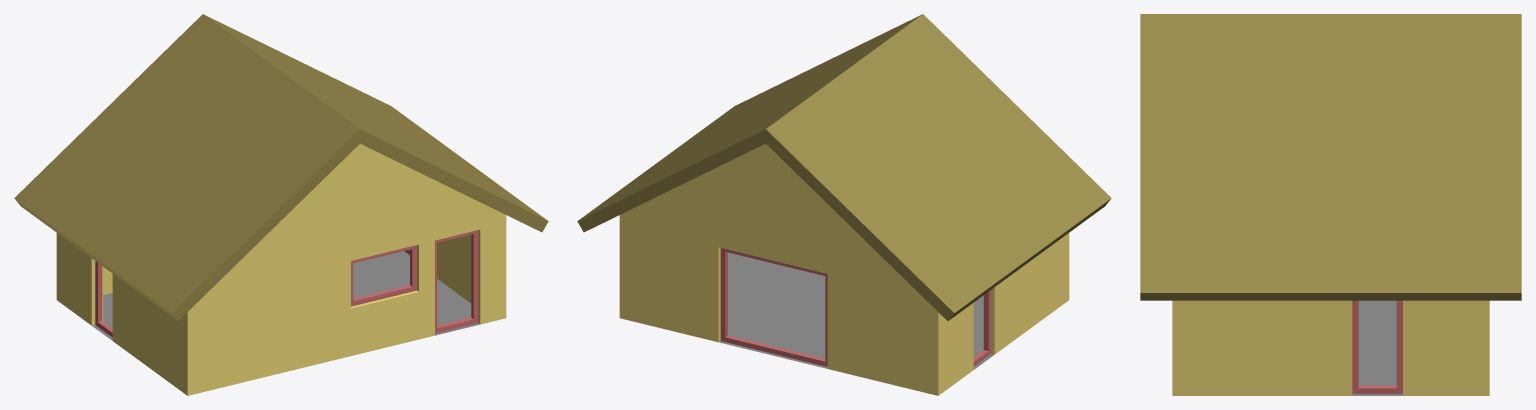
File: result.glb
3 renders of one model, left to right at view 1: azimuth 30°, elevation 25°; view 2: azimuth 150°, elevation 25°; view 3: azimuth 270°, elevation 25°, orthographic. The views are drawn at different scales.
Parts seen in each view (by area): view 1: d7be5c09-c284-466b-8f98-a94552281ddd__undefined (×2), 1d9ca5a3-7dc6-4dca-8aea-2c1976a27da8__undefined, b18ef0d9-2d0b-400a-9ca5-b12500fb0822__Plane_6, 64e5c6a6-7477-4eca-b0c9-16b6962f9c9c__Box, f46fdd0f-e996-4e82-8e86-56df7c826e7f__Box_3, 01976845-73f9-4101-a301-411f99254cc0__Box_12; view 2: d7be5c09-c284-466b-8f98-a94552281ddd__undefined (×2), 1d9ca5a3-7dc6-4dca-8aea-2c1976a27da8__undefined, b18ef0d9-2d0b-400a-9ca5-b12500fb0822__Plane_6, 5cdc32cc-f57f-4747-8ee2-b5ed0b17bea5__Box_9, 01976845-73f9-4101-a301-411f99254cc0__Box_12; view 3: d7be5c09-c284-466b-8f98-a94552281ddd__undefined, 1d9ca5a3-7dc6-4dca-8aea-2c1976a27da8__undefined, b18ef0d9-2d0b-400a-9ca5-b12500fb0822__Plane_6, ec38231c-7bec-4f73-8eb7-a3214620b6be__Box_15.
Part boxes in pixels (x1,y1,x2,y2): d7be5c09-c284-466b-8f98-a94552281ddd__undefined (×2): [14, 14, 548, 320]; 1d9ca5a3-7dc6-4dca-8aea-2c1976a27da8__undefined: [56, 143, 506, 395]; b18ef0d9-2d0b-400a-9ca5-b12500fb0822__Plane_6: [92, 251, 479, 340]; 64e5c6a6-7477-4eca-b0c9-16b6962f9c9c__Box: [435, 230, 478, 333]; f46fdd0f-e996-4e82-8e86-56df7c826e7f__Box_3: [351, 245, 416, 306]; 01976845-73f9-4101-a301-411f99254cc0__Box_12: [95, 261, 112, 337]; d7be5c09-c284-466b-8f98-a94552281ddd__undefined (×2): [577, 14, 1111, 320]; 1d9ca5a3-7dc6-4dca-8aea-2c1976a27da8__undefined: [619, 143, 1069, 395]; b18ef0d9-2d0b-400a-9ca5-b12500fb0822__Plane_6: [719, 252, 993, 369]; 5cdc32cc-f57f-4747-8ee2-b5ed0b17bea5__Box_9: [720, 248, 827, 366]; 01976845-73f9-4101-a301-411f99254cc0__Box_12: [973, 290, 990, 366]; d7be5c09-c284-466b-8f98-a94552281ddd__undefined: [1140, 14, 1521, 300]; 1d9ca5a3-7dc6-4dca-8aea-2c1976a27da8__undefined: [1172, 300, 1489, 395]; b18ef0d9-2d0b-400a-9ca5-b12500fb0822__Plane_6: [1352, 300, 1402, 395]; ec38231c-7bec-4f73-8eb7-a3214620b6be__Box_15: [1352, 300, 1402, 393].
Size of the model in its own units: 831 by 500 by 600.
